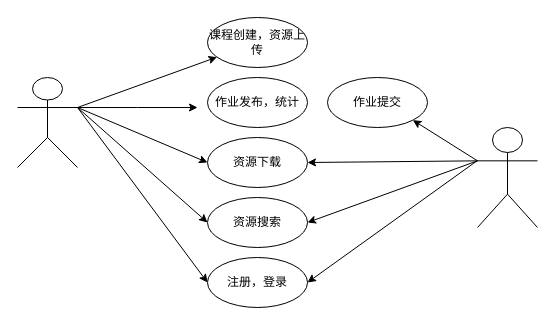
Image size: 555x325. Some labels were removed from this diagram. The shapes that lost their labels are listed below. From the top down, each one's centre as x and y in pixels, then its label:
point (47, 122): 教师
point (507, 177): 学生
